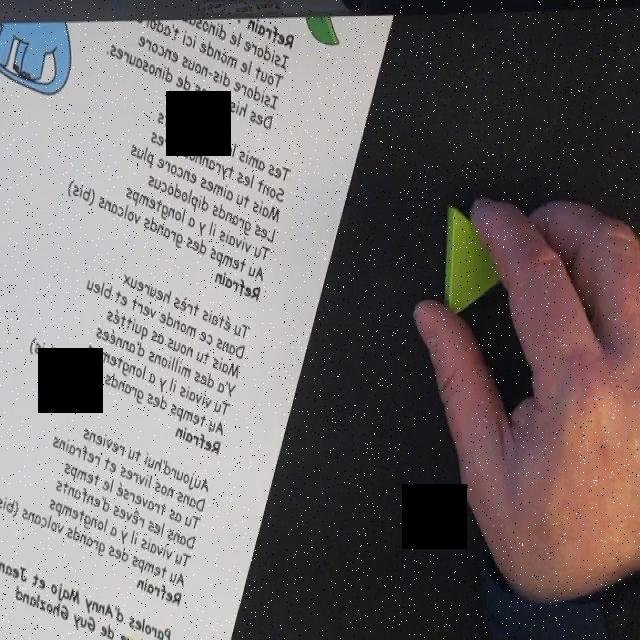triangle: (444, 203, 520, 328)
